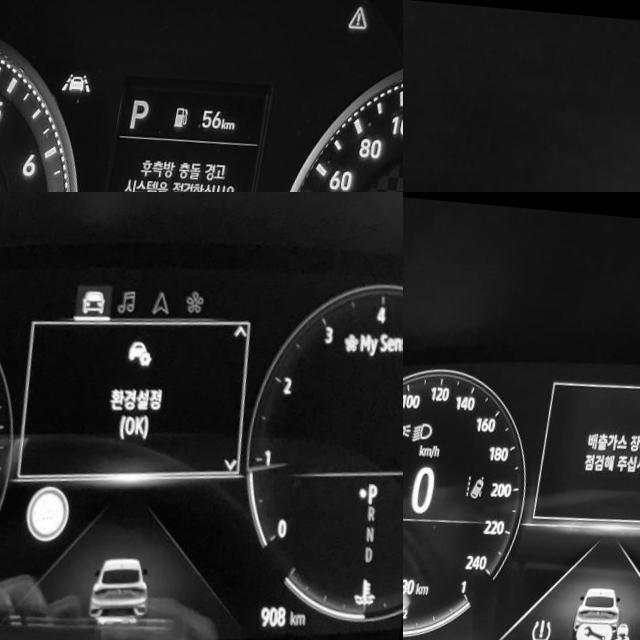Central Warning lamp: (351, 0, 372, 21)
LaneCenteringOff: (67, 67, 99, 92)
Low beam: (419, 417, 442, 442)
SideLamp: (403, 418, 420, 435)
